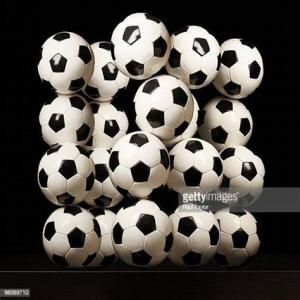Football: (106, 130, 173, 200), (110, 11, 172, 79), (42, 205, 100, 275), (115, 199, 175, 266), (134, 78, 194, 142), (38, 31, 95, 97), (166, 137, 222, 202), (38, 145, 94, 208), (166, 25, 219, 89), (169, 202, 220, 266), (215, 146, 266, 206), (214, 37, 264, 98), (39, 93, 94, 146), (213, 205, 261, 265), (83, 40, 128, 98), (203, 97, 253, 146), (89, 103, 129, 152)
